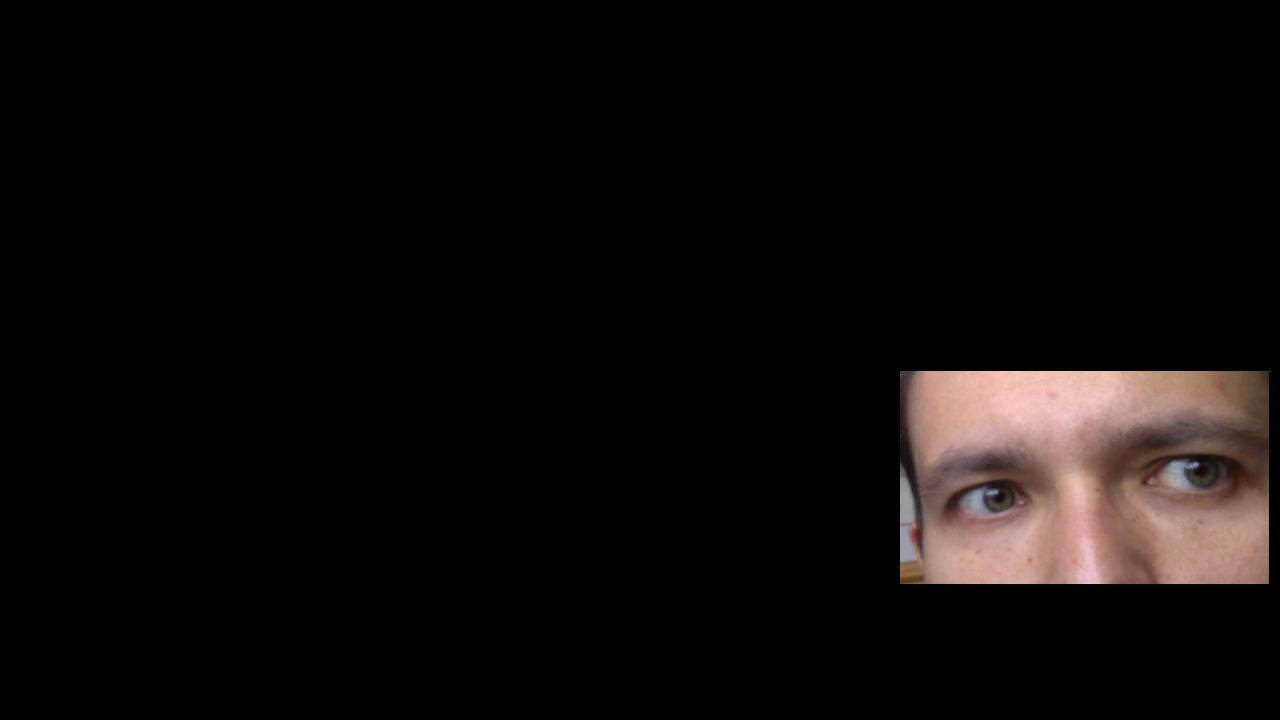eye: (1184, 458, 1225, 486), (984, 485, 1015, 515)
